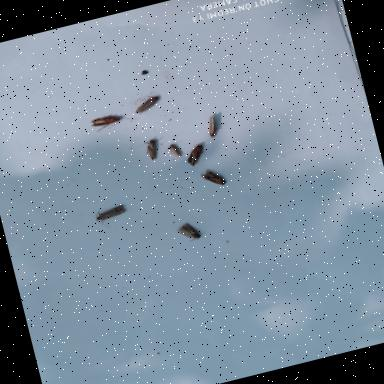pbw: (88, 107, 138, 135), (92, 202, 131, 231), (130, 90, 165, 117), (180, 140, 210, 170), (139, 134, 169, 164), (197, 164, 229, 192), (174, 218, 203, 246), (201, 109, 226, 141), (159, 139, 186, 162)
